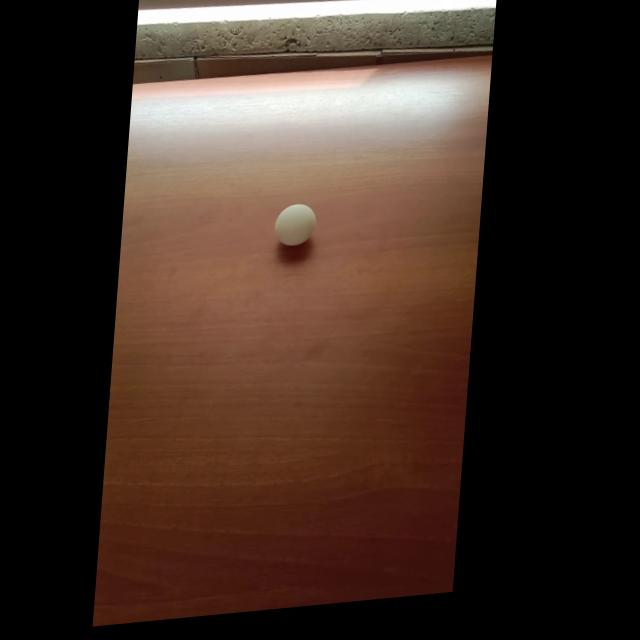white ball: (272, 201, 318, 249)
